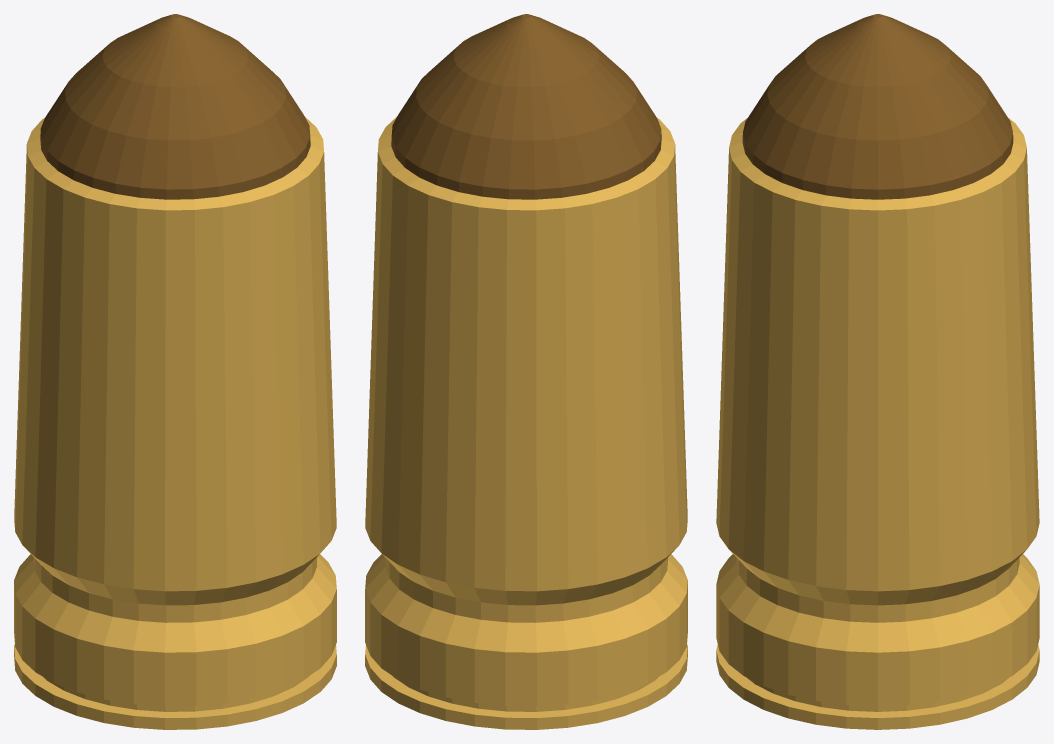
Rendered from Bala.fbx.
3 renders of one model, left to right at view 1: azimuth 30°, elevation 25°; view 2: azimuth 150°, elevation 25°; view 3: azimuth 270°, elevation 25°, orthographic.
Parts seen in each view (by area): view 1: Bala; view 2: Bala; view 3: Bala.
Boxes of the visible parts, x1,y1,x2,y2 form: Bala: [14, 14, 336, 729]; Bala: [365, 14, 687, 729]; Bala: [716, 14, 1039, 729].
Size of the model in its own units: 200 by 441 by 200.
